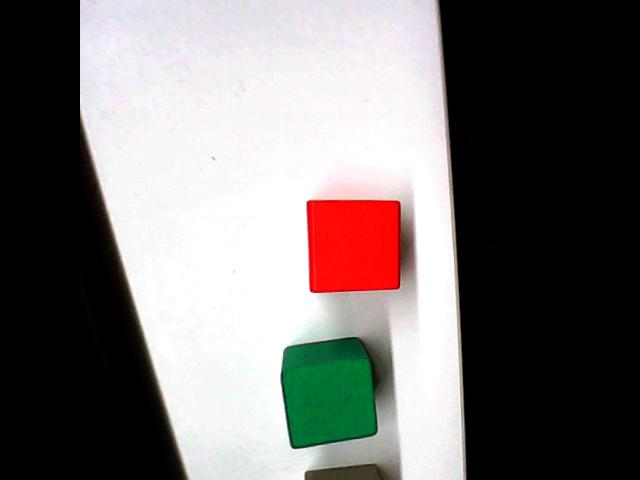green_box: (277, 334, 380, 450)
raw_box: (303, 460, 389, 480)
red_box: (302, 195, 403, 296)
